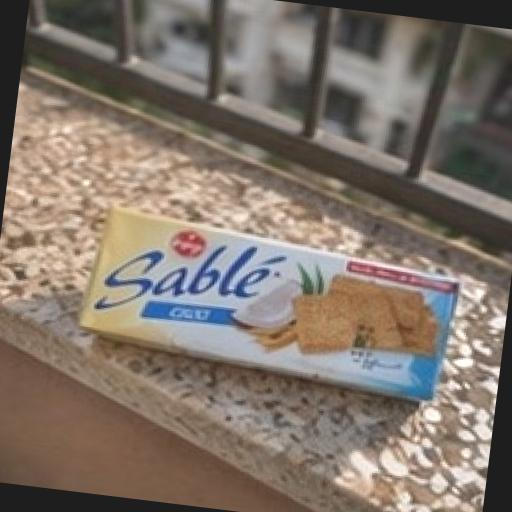sable: (34, 140, 510, 480)
